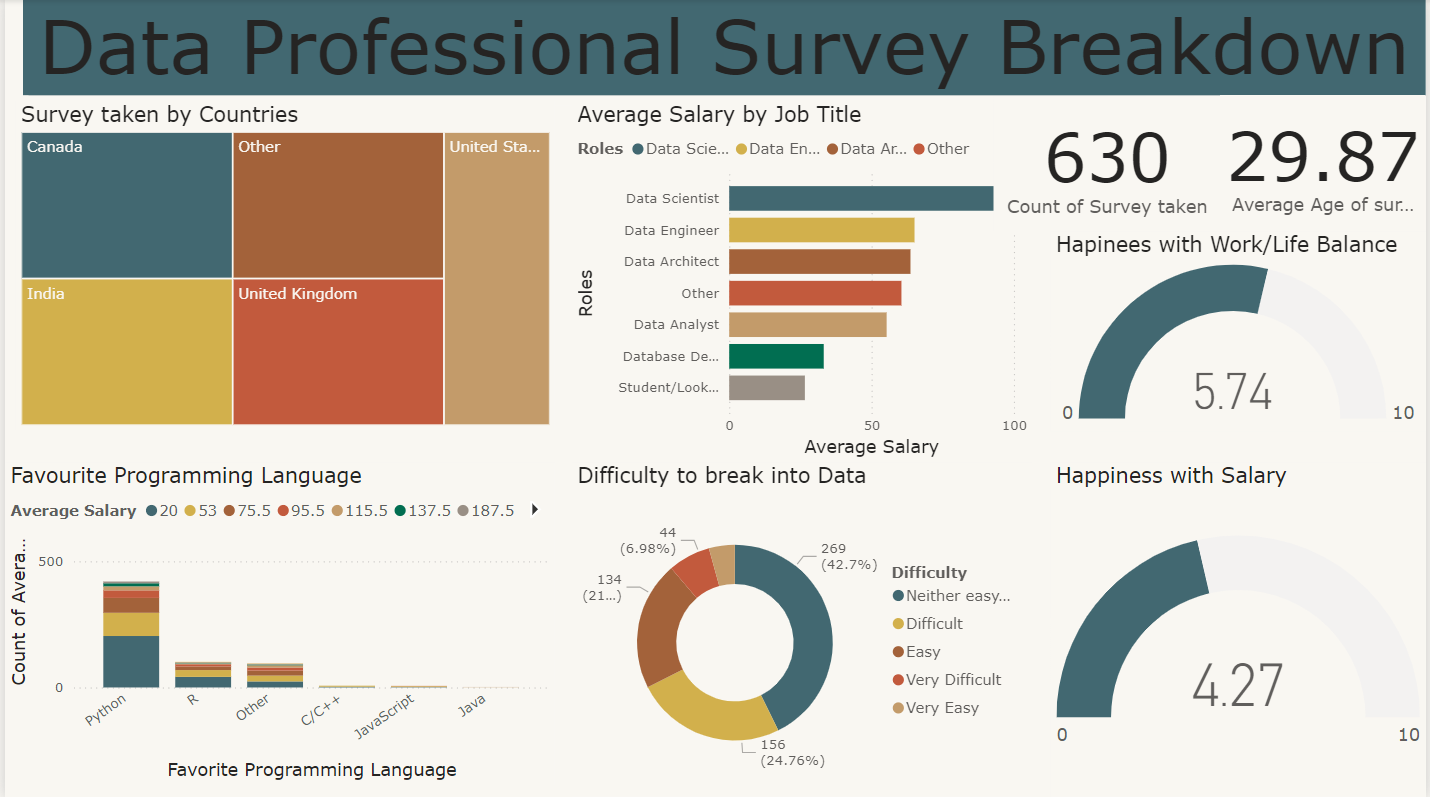

What the dashboard file says about the page in this screenshot:
{"tool":"powerbi","page":{"name":"Page 1","canvas":[1280,720],"ordinal":0},"visuals":[{"type":"textbox","title":"Data Professional Survey Breakdown","box":[16,0,1264,96],"z":0},{"type":"treemap","title":"Survey taken by Countries","fields":{"Values":["Count(Data Professional Survey.Q11 - Which Country do you live in?.1)"],"Group":["Data Professional Survey.Q11 - Which Country do you live in?.1"]},"box":[9.1,92.4,486.1,296.8],"z":1000},{"type":"barChart","title":"Average Salary by Job Title ","fields":{"Category":["Data Professional Survey.Q1 - Which Title Best Fits your Current Role?.1"],"Y":["Avg(Data Professional Survey.Average Salary)"],"Series":["Data Professional Survey.Q1 - Which Title Best Fits your Current Role?.1"]},"box":[510.3,92.4,414.9,371],"z":2000},{"type":"card","fields":{"Values":["CountNonNull(Data Professional Survey.Q10 - Current Age)"]},"box":[890.4,87.8,204.4,121.1],"z":3000},{"type":"card","fields":{"Values":["Avg(Data Professional Survey.Q10 - Current Age)"]},"box":[1094.8,86.3,184.7,121.1],"z":4000},{"type":"columnChart","title":"Favourite Programming Language","fields":{"Category":["Data Professional Survey.Q5 - Favorite Programming Language.1"],"Y":["CountNonNull(Data Professional Survey.Average Salary)"],"Series":["Data Professional Survey.Average Salary"]},"box":[0,417.9,495.1,290.7],"z":5000},{"type":"donutChart","title":"Difficulty to break into Data","fields":{"Category":["Data Professional Survey.Q7 - How difficult was it for you to break into Data?"],"Y":["CountNonNull(Data Professional Survey.Q7 - How difficult was it for you to break into Data?)"]},"box":[510.3,463.3,414.9,255.9],"z":6000},{"type":"gauge","title":"Hapinees with Work/Life Balance","fields":{"Y":["Avg(Data Professional Survey.Q6 - How Happy are you in your Current Position with the following? (Work/Life Balance))"],"MinValue":["Min(Data Professional Survey.Q6 - How Happy are you in your Current Position with the following? (Work/Life Balance))1"],"MaxValue":["Max(Data Professional Survey.Q6 - How Happy are you in your Current Position with the following? (Work/Life Balance))2"]},"box":[941.8,209,337.7,249.8],"z":7000},{"type":"gauge","title":"Happiness with Salary","fields":{"Y":["Avg(Data Professional Survey.Q6 - How Happy are you in your Current Position with the following? (Salary))"],"MinValue":["Min(Data Professional Survey.Q6 - How Happy are you in your Current Position with the following? (Salary))1"],"MaxValue":["Max(Data Professional Survey.Q6 - How Happy are you in your Current Position with the following? (Salary))"]},"box":[941.8,458.8,337.7,260.4],"z":8000}]}

Visuals, with their boxes in screenshot pixels (x1, y1, x2, y2), scaled from the page's 1280x720 canvas onto the 1430x797 screenshot:
"Data Professional Survey Breakdown" textbox: locate(18, 0, 1429, 106)
"Survey taken by Countries" treemap: locate(10, 102, 553, 431)
"Average Salary by Job Title " barChart: locate(570, 102, 1034, 513)
card - CountNonNull(Data Professional Survey.Q10 - Current Age): locate(995, 97, 1223, 231)
card - Avg(Data Professional Survey.Q10 - Current Age): locate(1223, 96, 1429, 230)
"Favourite Programming Language" columnChart: locate(0, 463, 553, 784)
"Difficulty to break into Data" donutChart: locate(570, 513, 1034, 796)
"Hapinees with Work/Life Balance" gauge: locate(1052, 231, 1429, 508)
"Happiness with Salary" gauge: locate(1052, 508, 1429, 796)
